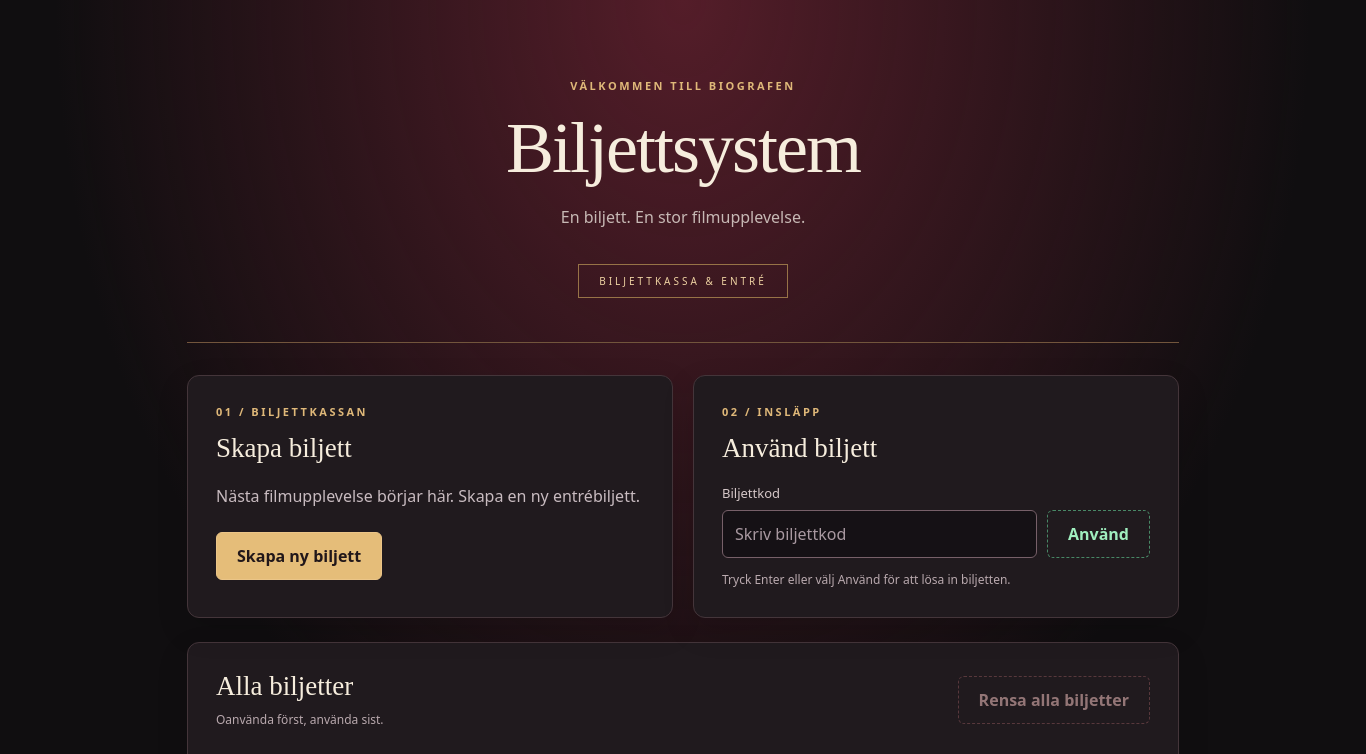
Test: Ticket system › should reject an empty ticket code without sending a request
The width and height of the screenshot is (1366, 754).
What coordinates should you click on to do the following:
click the button "Använd"
I would click on:
 (1098, 534)
Its box is [1047,510,1150,558].
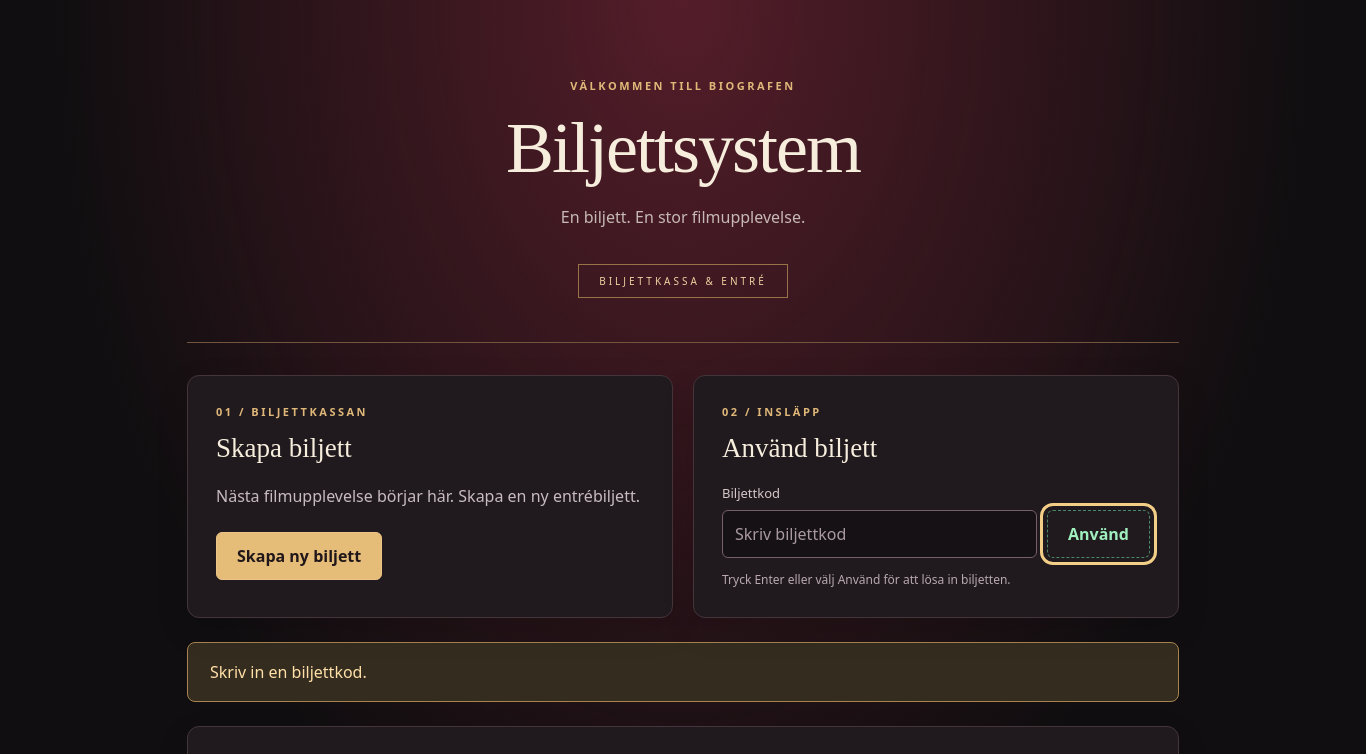
Expected: the text "Skriv in en biljettkod." is shown, [187,642,1179,702]
